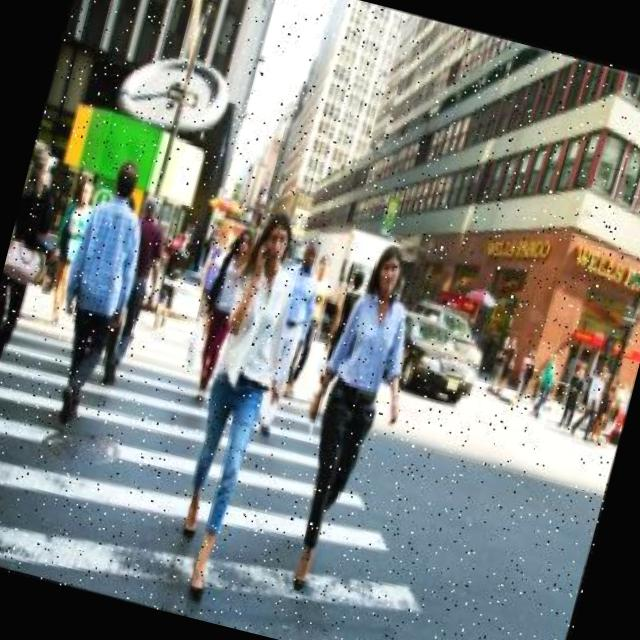Person: (158, 206, 323, 610), (268, 238, 438, 600), (34, 150, 163, 424), (246, 230, 334, 435), (182, 227, 258, 408)
